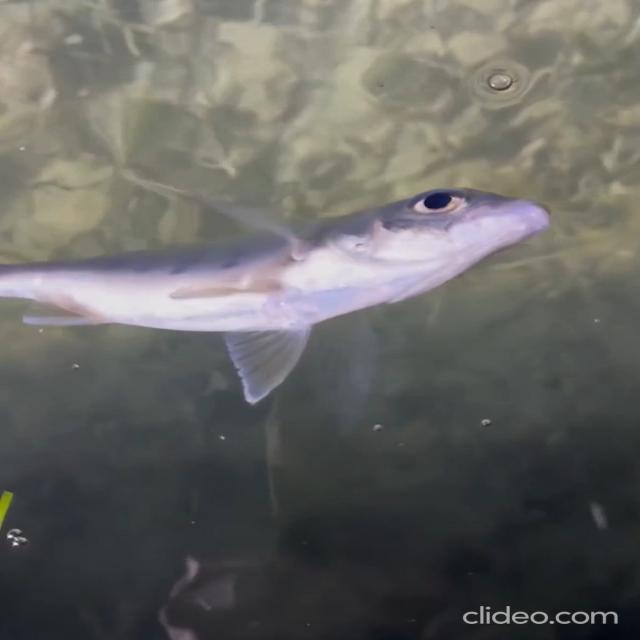fish: (0, 179, 561, 413)
